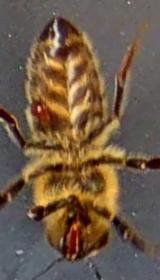varroa_mite: (16, 92, 59, 128)
